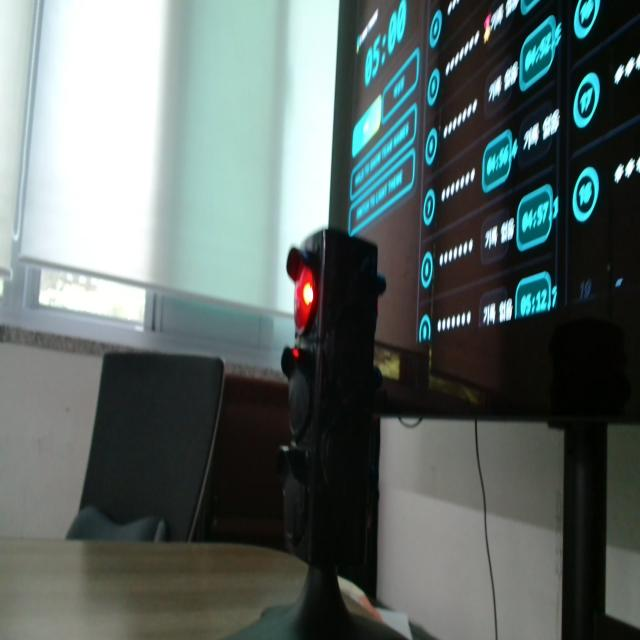red_light: (294, 267, 314, 333), (292, 348, 299, 359)
